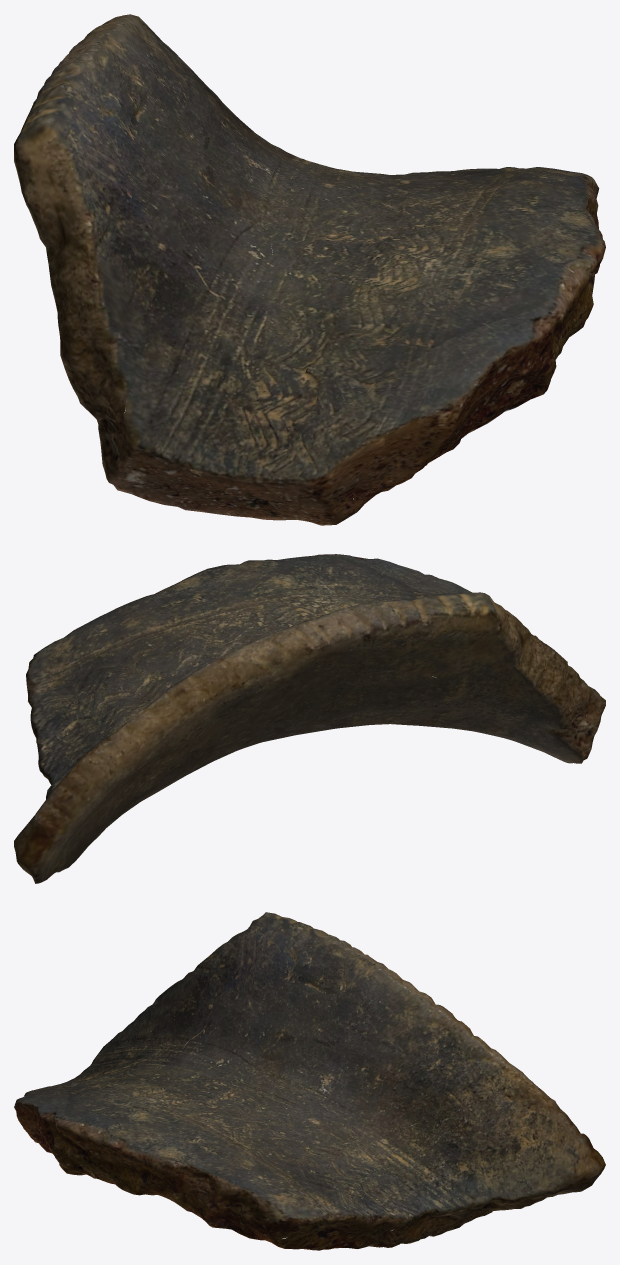
Rendered from nnf.glb.
The picture shows the model from 3 angles, top to bottom: view 1: azimuth 30°, elevation 25°; view 2: azimuth 150°, elevation 25°; view 3: azimuth 270°, elevation 25°; orthographic projection. The views are drawn at different scales.
Size of the model in its own units: 0.1046 by 0.0519 by 0.1377.
1 material, 1 textured.
